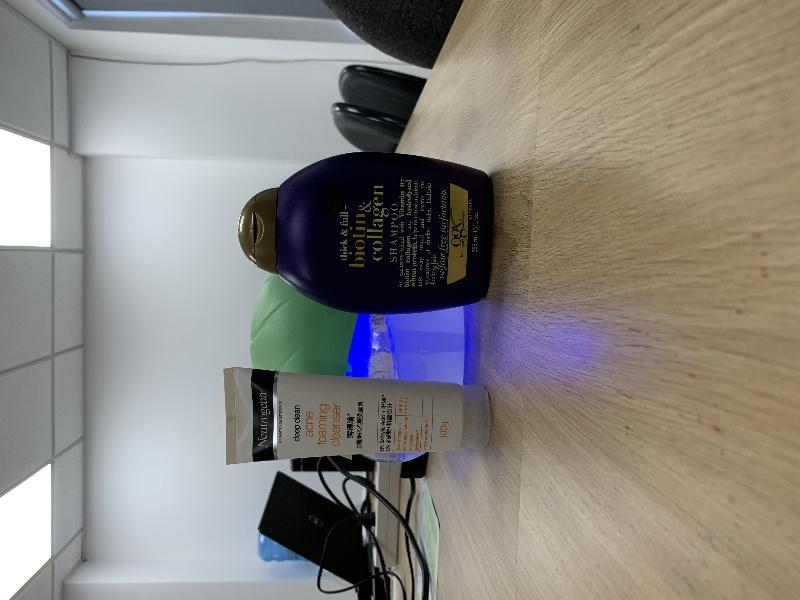AcneFoamingCleanser: (223, 367, 490, 465)
BiotinCollagen_Shampoo: (238, 151, 492, 314)
